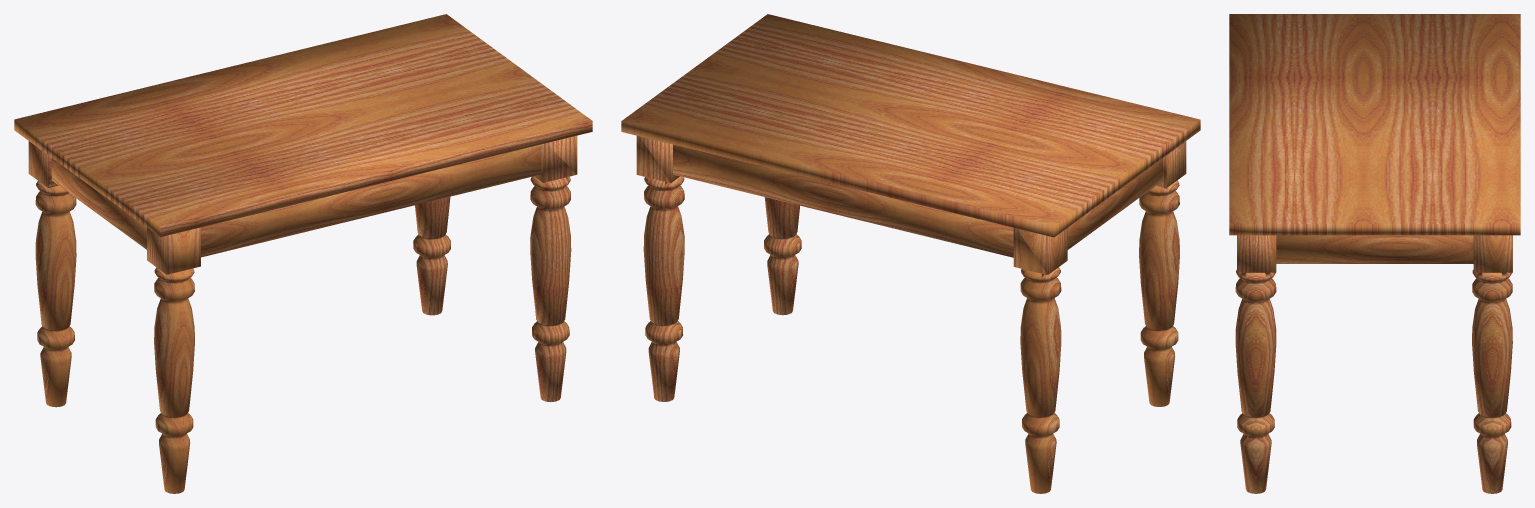
File: table.obj
3 renders of one model, left to right at view 1: azimuth 30°, elevation 25°; view 2: azimuth 150°, elevation 25°; view 3: azimuth 270°, elevation 25°, orthographic.
Visible parts, largest first — view 1: Mesh2, Mesh1; view 2: Mesh2, Mesh1; view 3: Mesh2, Mesh1.
Boxes of the visible parts, x1,y1,x2,y2 form: Mesh2: [14, 14, 592, 237]; Mesh1: [28, 135, 577, 493]; Mesh2: [621, 14, 1200, 237]; Mesh1: [636, 136, 1186, 493]; Mesh2: [1229, 14, 1520, 235]; Mesh1: [1235, 235, 1512, 493].
Size of the model in its own units: 1.26 by 0.7819 by 0.74.
